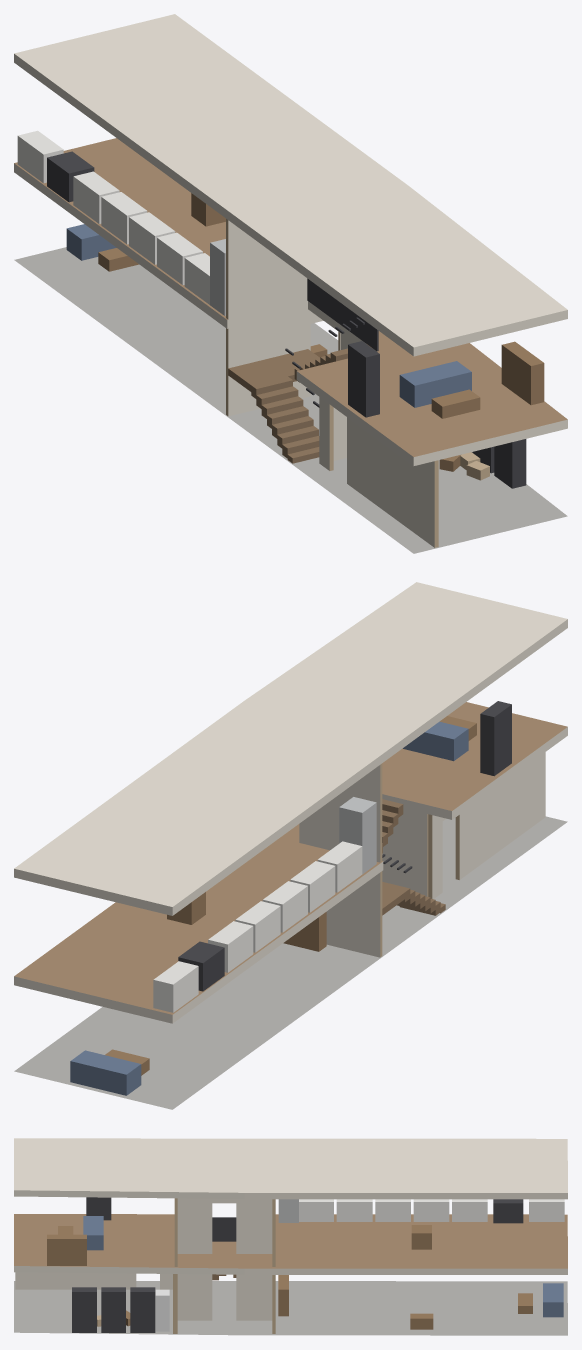
The model's file is interior.glb.
The picture shows the model from 3 angles, top to bottom: view 1: azimuth 30°, elevation 25°; view 2: azimuth 150°, elevation 25°; view 3: azimuth 270°, elevation 25°; orthographic projection. The views are drawn at different scales.
Parts seen in each view (by area): view 1: slabs, coarse-s1, partitions, stair, coarse-s0; view 2: slabs, partitions, coarse-s1, coarse-s0, stair; view 3: slabs, partitions, coarse-s1, coarse-s0, stair.
Part boxes in pixels (x1,y1,x2,y2): slabs: (14, 14, 567, 553); coarse-s1: (17, 130, 544, 418); partitions: (226, 219, 438, 547); stair: (228, 278, 378, 463); coarse-s0: (66, 224, 526, 488); slabs: (14, 582, 567, 1109); partitions: (299, 752, 545, 957); coarse-s1: (153, 701, 511, 1012); coarse-s0: (70, 912, 326, 1095); stair: (382, 799, 445, 915); slabs: (14, 1138, 567, 1335); partitions: (15, 1198, 275, 1333); coarse-s1: (47, 1197, 564, 1265); coarse-s0: (72, 1275, 563, 1332); stair: (212, 1217, 236, 1280).
Size of the model in its own units: 4.89 by 5.95 by 20.9.
